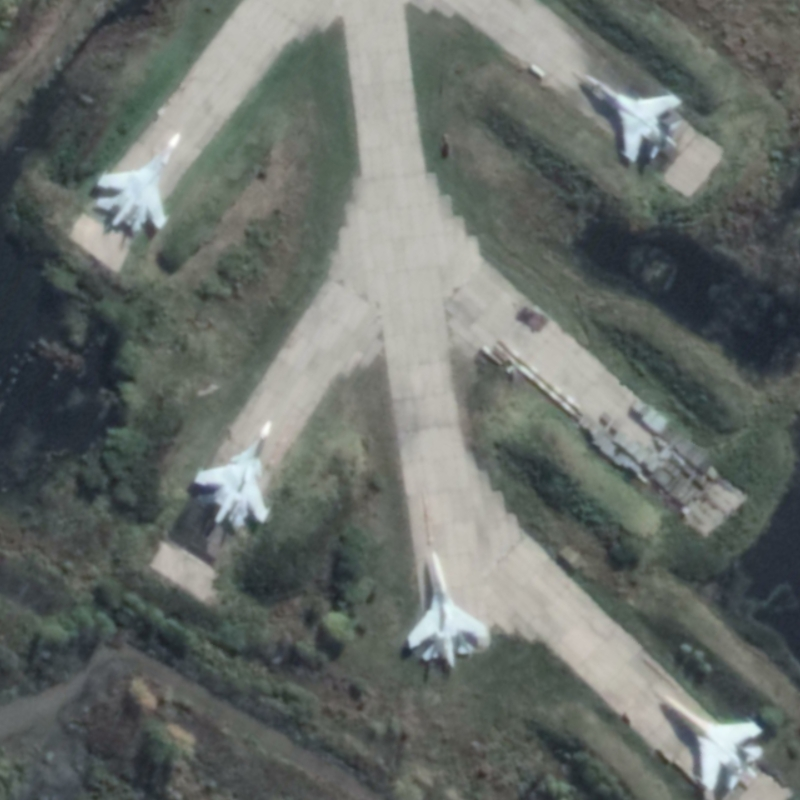A1: (658, 692, 767, 795), (402, 549, 489, 671), (580, 72, 684, 167), (93, 130, 183, 235)
A19: (191, 417, 274, 531)
